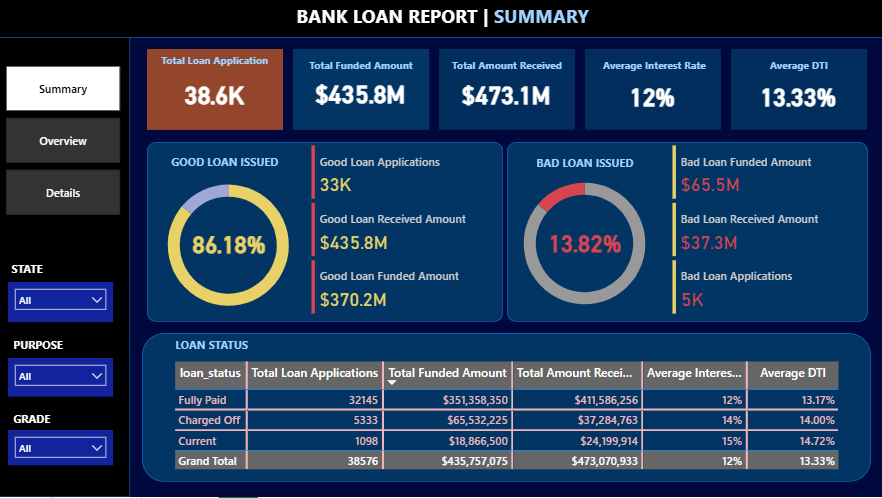

This screenshot's page, from the dashboard's own definition file:
{"tool":"powerbi","page":{"name":"Summary","canvas":[1280,720],"ordinal":0},"visuals":[{"type":"shape","box":[0,53,189.7,666.5],"z":0},{"type":"shape","box":[635.8,71.7,196.7,116.7],"z":0,"group":"g3"},{"type":"shape","box":[847.1,71.7,196.7,116.7],"z":0,"group":"g4"},{"type":"shape","box":[1058.3,71.7,196.7,116.7],"z":0,"group":"g5"},{"type":"shape","box":[206.7,482.9,1054,215.4],"z":1000},{"type":"shape","box":[424.6,71.7,196.7,116.7],"z":2000,"group":"g2"},{"type":"card","fields":{"Values":["financial_loan.Average Interest Rate"]},"box":[873.8,116.7,141.7,45],"z":2000,"group":"g4"},{"type":"card","fields":{"Values":["financial_loan.Average DTI"]},"box":[1085,116.7,141.7,45],"z":2000,"group":"g5"},{"type":"shape","box":[213.3,206.7,515,260],"z":2000},{"type":"shape","box":[0,0,1280,56],"z":3000},{"type":"textbox","box":[283.9,0,687,79],"z":4000},{"type":"textbox","box":[847.1,78.4,196.7,33.3],"z":4000,"group":"g4"},{"type":"textbox","box":[1058.3,78.4,196.7,33.3],"z":4000,"group":"g5"},{"type":"card","fields":{"Values":["financial_loan.Total Amount Received"]},"box":[662.5,113.4,141.7,45],"z":4000,"group":"g3"},{"type":"card","fields":{"Values":["financial_loan.Good Loan %"]},"box":[268.3,328.3,126.7,48.3],"z":5000},{"type":"textbox","box":[228.3,220,196.7,33.3],"z":6000},{"type":"group","id":"g1","title":"Group 1","box":[213.3,71.7,196.7,116.7],"z":7000},{"type":"textbox","box":[635.8,78.4,196.7,33.3],"z":7000,"group":"g3"},{"type":"group","id":"g2","title":"Group 2","box":[424.6,71.7,196.7,116.7],"z":8000},{"type":"group","id":"g3","title":"Group 3","box":[635.8,71.7,196.7,116.7],"z":9000},{"type":"card","fields":{"Values":["financial_loan.Total Funded Amount"]},"box":[449.6,105,145,58.3],"z":9000,"group":"g2"},{"type":"group","id":"g4","title":"Group 4","box":[847.1,71.7,196.7,116.7],"z":10000},{"type":"group","id":"g5","title":"Group 4","box":[1058.3,71.7,196.7,116.7],"z":11000},{"type":"textbox","box":[425.2,78.9,196.7,46.7],"z":11000,"group":"g2"},{"type":"shape","box":[213.3,71.7,196.7,117.4],"z":12000,"group":"g1"},{"type":"shape","box":[735,206.7,521.7,260],"z":12000},{"type":"card","fields":{"Values":["financial_loan.Total Loan Applications"]},"box":[226.6,108.4,168.3,55],"z":13000,"group":"g1"},{"type":"donutChart","fields":{"Y":["financial_loan.Total Loan Applications"],"Category":["financial_loan.Good vs Bad Loan"]},"box":[206.8,241,249.5,229],"z":13000},{"type":"textbox","box":[214,72,196,35.2],"z":14000,"group":"g1"},{"type":"cardVisual","fields":{"Data":["financial_loan.Good Loan Applications","financial_loan.Good Loan Received Amount","financial_loan.Good Loan Funded Amount"]},"box":[446.7,206.7,286.7,253.3],"z":14000},{"type":"donutChart","fields":{"Category":["financial_loan.Good vs Bad Loan"],"Y":["financial_loan.Total Loan Applications"]},"box":[721.4,238.6,250.1,229.9],"z":15000},{"type":"card","fields":{"Values":["financial_loan.Bad Loan %"]},"box":[783.3,326.7,126.7,48.3],"z":16000},{"type":"textbox","box":[748.3,221.7,196.7,33.3],"z":17000},{"type":"cardVisual","fields":{"Data":["financial_loan.Bad Loan Funded Amount","financial_loan.Bad Loan Received Amount","financial_loan.Bad Loan Applications"]},"box":[968.3,206.7,286.7,253.3],"z":18000},{"type":"tableEx","fields":{"Values":["financial_loan.loan_status","financial_loan.Total Loan Applications","financial_loan.Total Funded Amount","financial_loan.Total Amount Received","financial_loan.Average Interest Rate","financial_loan.Average DTI"]},"box":[248.7,519,981.7,179.3],"z":19000},{"type":"textbox","box":[249.5,483.6,124.8,35.9],"z":20000},{"type":"slicer","fields":{"Values":["financial_loan.purpose"]},"box":[13.7,519.5,152.1,56.4],"z":21000},{"type":"textbox","box":[15.4,483.6,116.2,37.6],"z":22000},{"type":"slicer","fields":{"Values":["financial_loan.grade"]},"box":[13.7,623.8,152.1,51.3],"z":23000},{"type":"textbox","box":[15.4,591.3,116.2,32.5],"z":24000},{"type":"slicer","fields":{"Values":["financial_loan.address_state"]},"box":[13.7,408.4,152.1,58.1],"z":25000},{"type":"textbox","box":[13.7,374.3,117.9,34.2],"z":26000},{"type":"pageNavigator","box":[10.3,97.4,165.8,217],"z":26001}]}

Visuals, with their boxes in screenshot pixels (x1, y1, x2, y2), scaled from the page's 1280x720 canvas onto the 882x498 screenshot:
shape: [left=0, top=37, right=131, bottom=497]
shape: [left=438, top=50, right=574, bottom=130]
shape: [left=584, top=50, right=719, bottom=130]
shape: [left=729, top=50, right=865, bottom=130]
shape: [left=142, top=334, right=869, bottom=483]
shape: [left=293, top=50, right=428, bottom=130]
card - financial_loan.Average Interest Rate: [left=602, top=81, right=700, bottom=112]
card - financial_loan.Average DTI: [left=748, top=81, right=845, bottom=112]
shape: [left=147, top=143, right=502, bottom=323]
shape: [left=0, top=0, right=881, bottom=39]
textbox: [left=196, top=0, right=669, bottom=55]
textbox: [left=584, top=54, right=719, bottom=77]
textbox: [left=729, top=54, right=865, bottom=77]
card - financial_loan.Total Amount Received: [left=457, top=78, right=554, bottom=110]
card - financial_loan.Good Loan %: [left=185, top=227, right=272, bottom=260]
textbox: [left=157, top=152, right=293, bottom=175]
"Group 1" group: [left=147, top=50, right=283, bottom=130]
textbox: [left=438, top=54, right=574, bottom=77]
"Group 2" group: [left=293, top=50, right=428, bottom=130]
"Group 3" group: [left=438, top=50, right=574, bottom=130]
card - financial_loan.Total Funded Amount: [left=310, top=73, right=410, bottom=113]
"Group 4" group: [left=584, top=50, right=719, bottom=130]
"Group 4" group: [left=729, top=50, right=865, bottom=130]
textbox: [left=293, top=55, right=429, bottom=87]
shape: [left=147, top=50, right=283, bottom=131]
shape: [left=506, top=143, right=866, bottom=323]
card - financial_loan.Total Loan Applications: [left=156, top=75, right=272, bottom=113]
donutChart - financial_loan.Total Loan Applications x financial_loan.Good vs Bad Loan: [left=142, top=167, right=314, bottom=325]
textbox: [left=147, top=50, right=283, bottom=74]
cardVisual - financial_loan.Good Loan Applications x financial_loan.Good Loan Received Amount: [left=308, top=143, right=505, bottom=318]
donutChart - financial_loan.Good vs Bad Loan x financial_loan.Total Loan Applications: [left=497, top=165, right=669, bottom=324]
card - financial_loan.Bad Loan %: [left=540, top=226, right=627, bottom=259]
textbox: [left=516, top=153, right=651, bottom=176]
cardVisual - financial_loan.Bad Loan Funded Amount x financial_loan.Bad Loan Received Amount: [left=667, top=143, right=865, bottom=318]
tableEx - financial_loan.loan_status x financial_loan.Total Loan Applications: [left=171, top=359, right=848, bottom=483]
textbox: [left=172, top=334, right=258, bottom=359]
slicer - financial_loan.purpose: [left=9, top=359, right=114, bottom=398]
textbox: [left=11, top=334, right=91, bottom=360]
slicer - financial_loan.grade: [left=9, top=431, right=114, bottom=467]
textbox: [left=11, top=409, right=91, bottom=431]
slicer - financial_loan.address_state: [left=9, top=282, right=114, bottom=323]
textbox: [left=9, top=259, right=91, bottom=283]
pageNavigator: [left=7, top=67, right=121, bottom=217]
